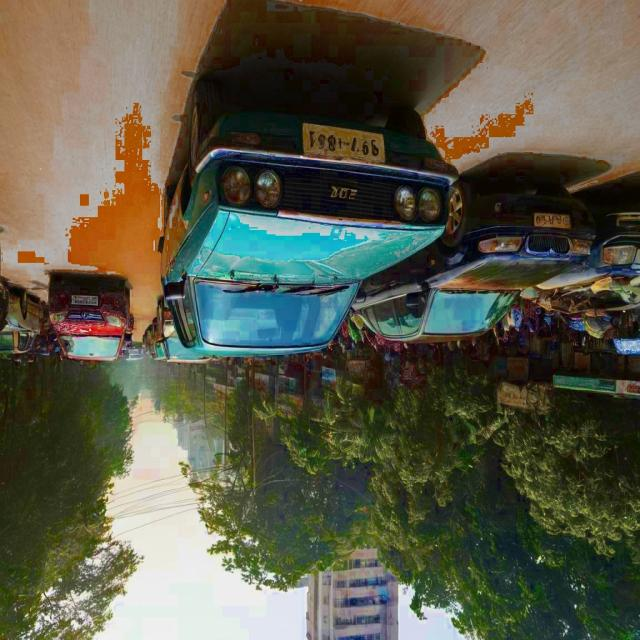black: (339, 165, 592, 357)
green: (152, 82, 436, 354)
red: (40, 270, 133, 362)
silver: (0, 280, 39, 355)
